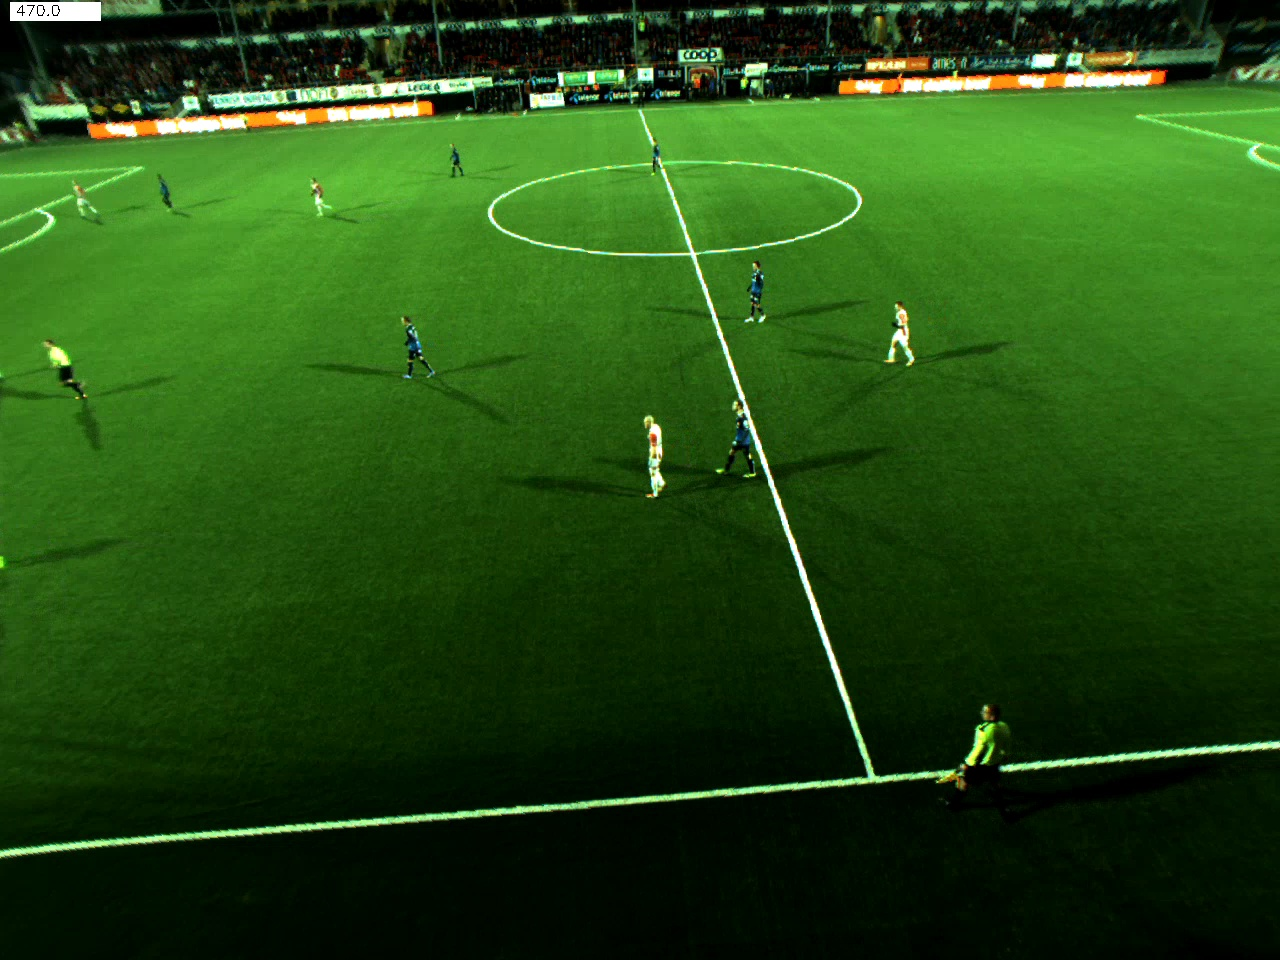blue: (712, 391, 767, 485), (394, 306, 439, 388), (634, 139, 676, 184), (748, 256, 774, 316), (442, 139, 471, 187), (149, 170, 171, 212)
red: (873, 289, 930, 380), (639, 412, 673, 505), (298, 177, 341, 230), (65, 174, 109, 219)
yellow: (934, 694, 1020, 814), (46, 324, 98, 398)
